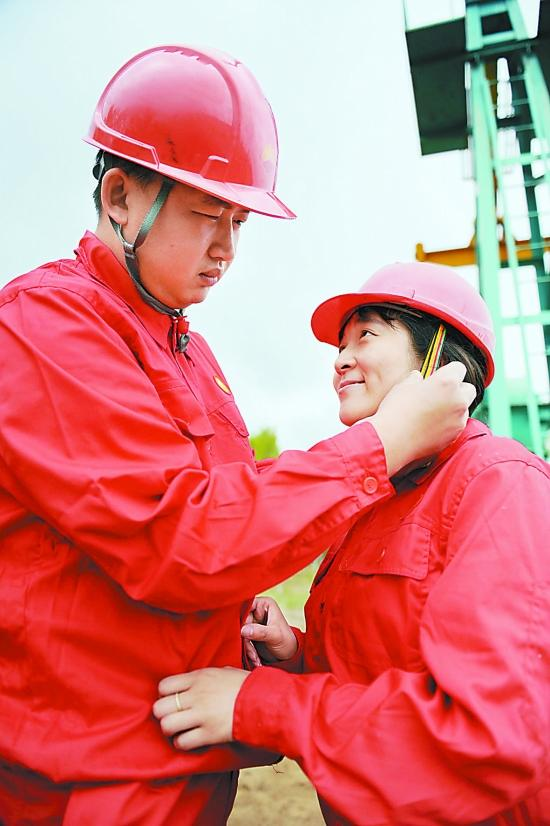helmet: (83, 45, 299, 220), (319, 266, 497, 387)
